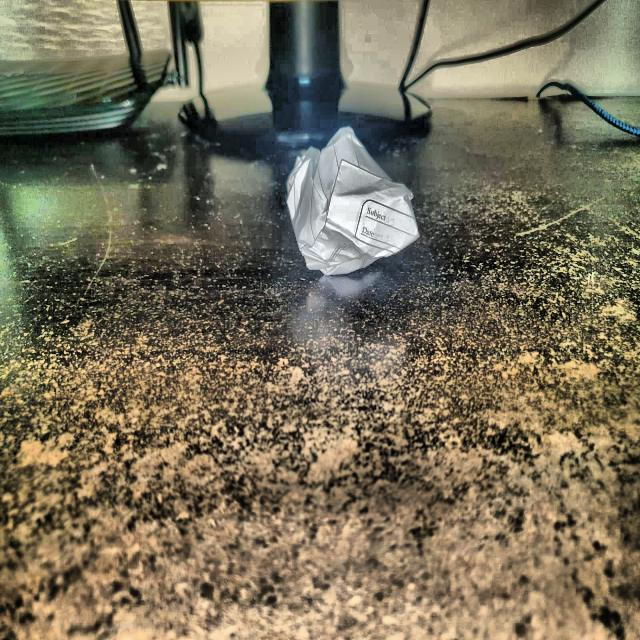Paper: (282, 119, 420, 291)
